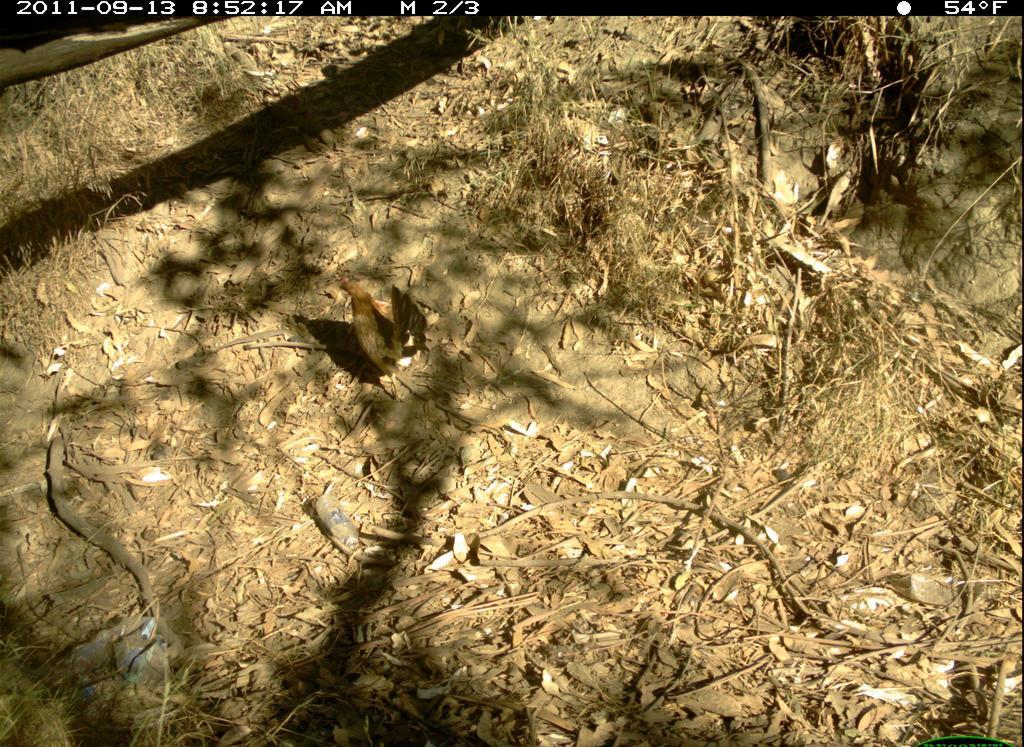bird: (321, 269, 441, 400)
